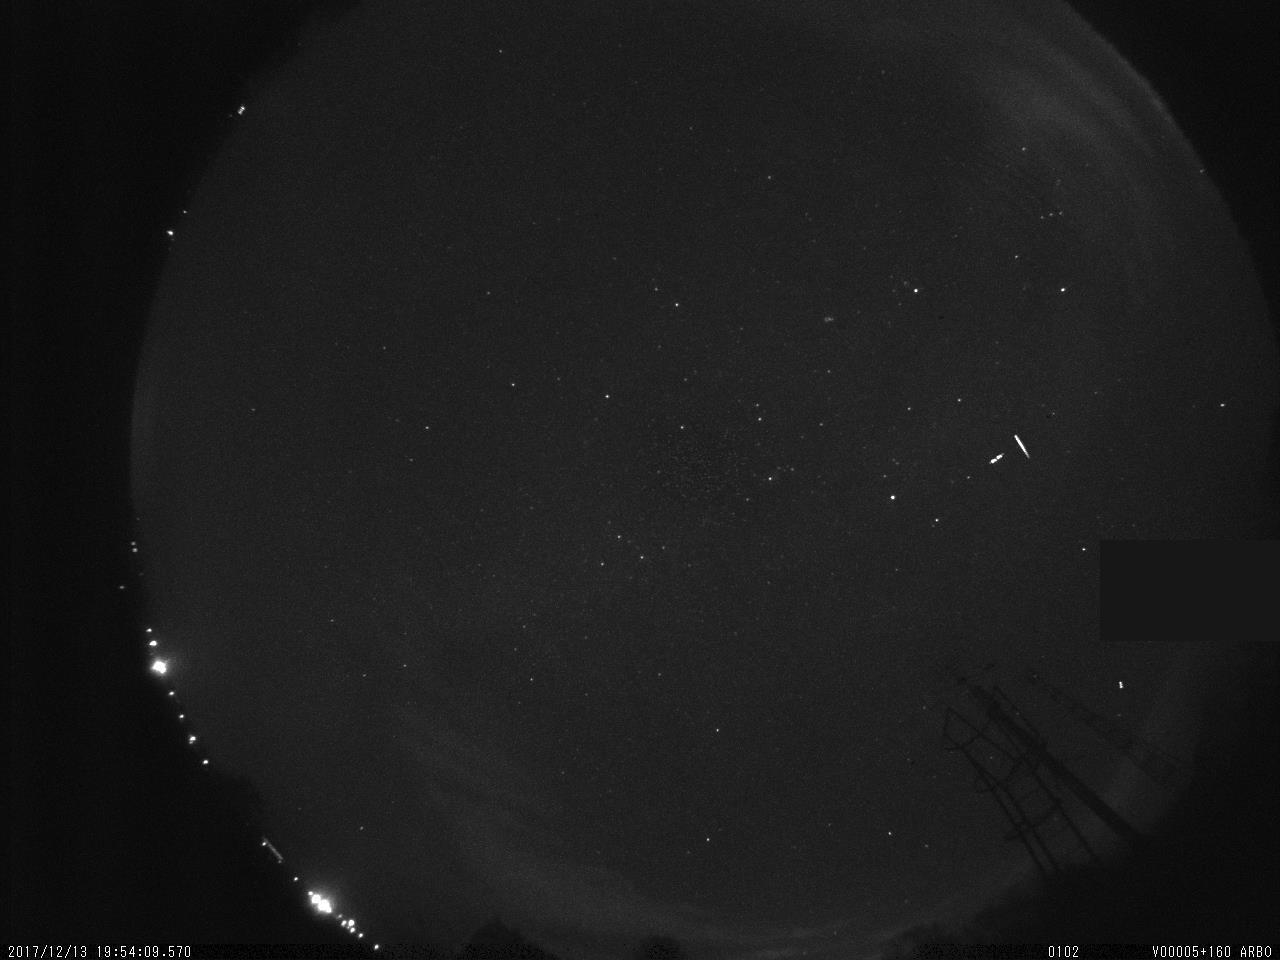meteor: (1011, 430, 1032, 463)
satelite: (986, 448, 1007, 473)
